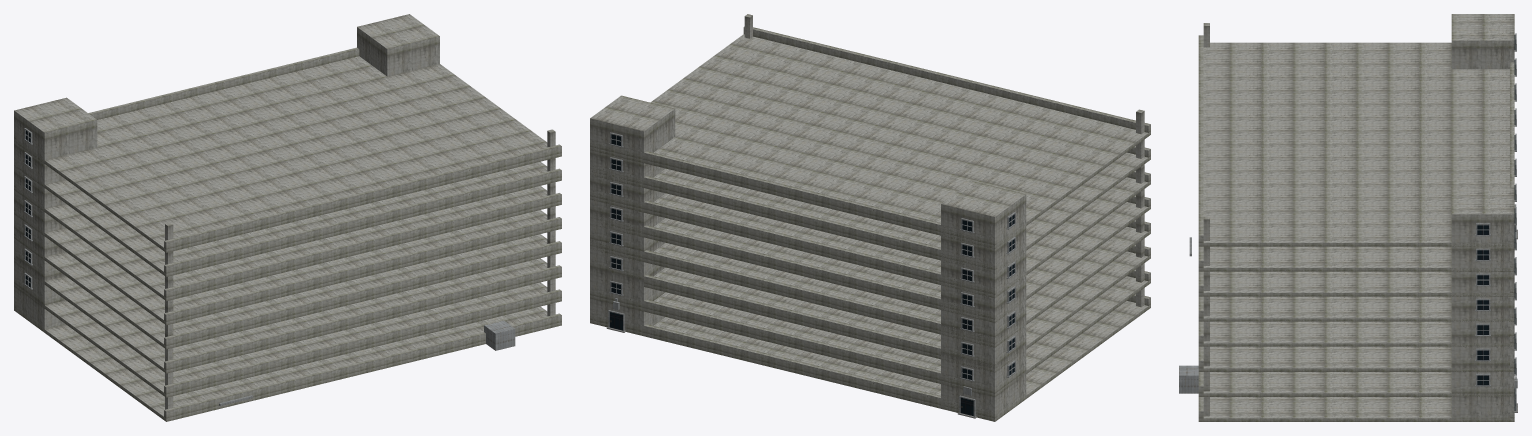
File: parking-deck_lod0.gltf
3 views of the same model, side by side, from view 1: azimuth 30°, elevation 25°; view 2: azimuth 150°, elevation 25°; view 3: azimuth 270°, elevation 25° (orthographic). The views are drawn at different scales.
Visible parts, largest first — view 1: parking-deck_decks, parking-deck_stairs, parking-deck_columns, parking-deck__ticket_booth, parking-deck_fen_14-steel-panel_0; view 2: parking-deck_decks, parking-deck_stairs, parking-deck_fen_14-steel-panel_0, parking-deck_fen_07-glass-curtain-blue_1_t, parking-deck_columns; view 3: parking-deck_decks, parking-deck_stairs, parking-deck_fen_14-steel-panel_0, parking-deck_fen_07-glass-curtain-blue_1_t, parking-deck_columns, parking-deck__ticket_booth.
Boxes of the visible parts, bbox=[...] form: parking-deck_decks: bbox=[14, 47, 561, 421]; parking-deck_stairs: bbox=[14, 14, 439, 332]; parking-deck_columns: bbox=[165, 129, 555, 409]; parking-deck__ticket_booth: bbox=[484, 320, 515, 350]; parking-deck_fen_14-steel-panel_0: bbox=[23, 128, 32, 289]; parking-deck_decks: bbox=[590, 26, 1150, 421]; parking-deck_stairs: bbox=[590, 95, 1026, 421]; parking-deck_fen_14-steel-panel_0: bbox=[608, 132, 1016, 416]; parking-deck_fen_07-glass-curtain-blue_1_t: bbox=[609, 134, 1014, 415]; parking-deck_columns: bbox=[744, 14, 1144, 307]; parking-deck_decks: bbox=[1198, 35, 1514, 421]; parking-deck_stairs: bbox=[1451, 14, 1514, 421]; parking-deck_fen_14-steel-panel_0: bbox=[1475, 33, 1517, 411]; parking-deck_fen_07-glass-curtain-blue_1_t: bbox=[1477, 35, 1515, 410]; parking-deck_columns: bbox=[1203, 23, 1209, 416]; parking-deck__ticket_booth: bbox=[1179, 365, 1198, 393].
Bounding box in the file's own units: 60.55 × 29.02 × 42.9.
